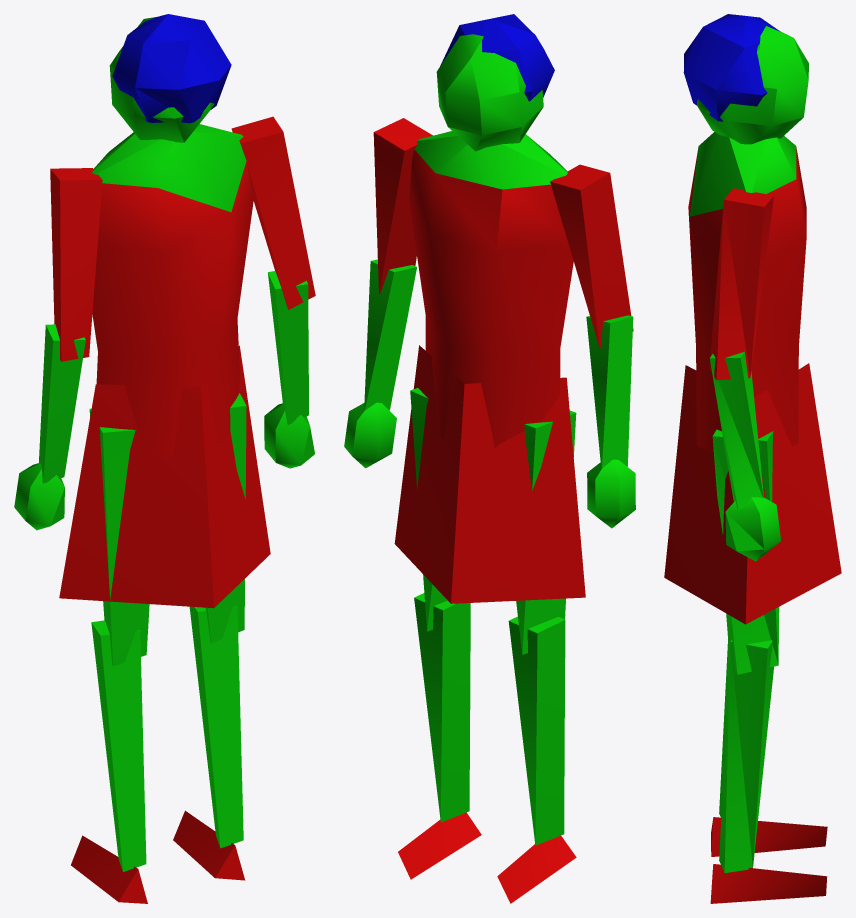
File: stand_idle_lod1.glb
3 renders of one model, left to right at view 1: azimuth 30°, elevation 25°; view 2: azimuth 150°, elevation 25°; view 3: azimuth 270°, elevation 25°, orthographic. The views are drawn at different scales.
Parts seen in each view (by area): view 1: OUT_1; view 2: OUT_1; view 3: OUT_1.
Boxes of the visible parts, x1=… form: OUT_1: x1=14, y1=14, x2=315, y2=903; OUT_1: x1=344, y1=14, x2=635, y2=903; OUT_1: x1=664, y1=14, x2=841, y2=903.
Size of the model in its own units: 0.5946 by 1.7 by 0.319.
